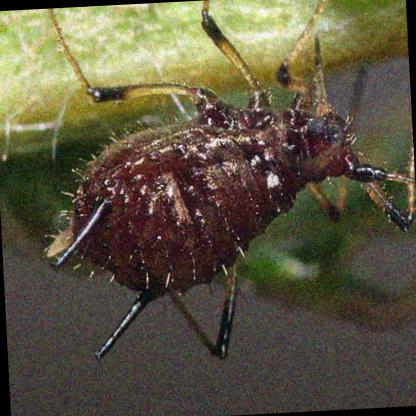uroleucon compositae: (46, 0, 388, 358)
